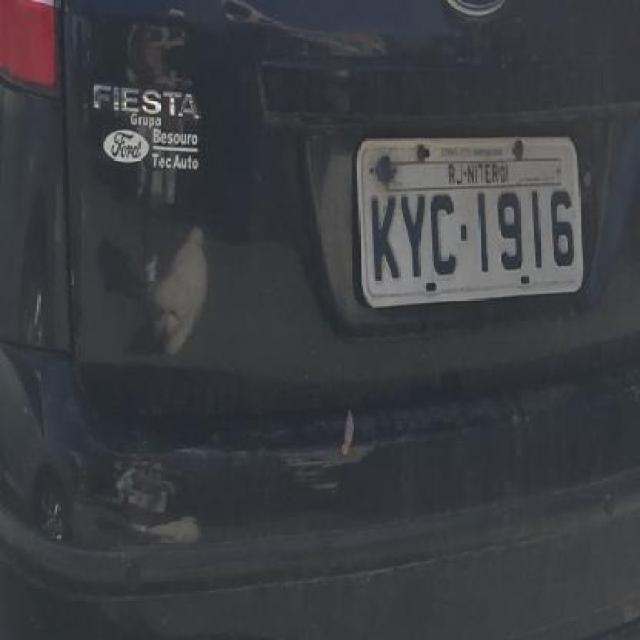old_plate: (352, 130, 588, 314)
